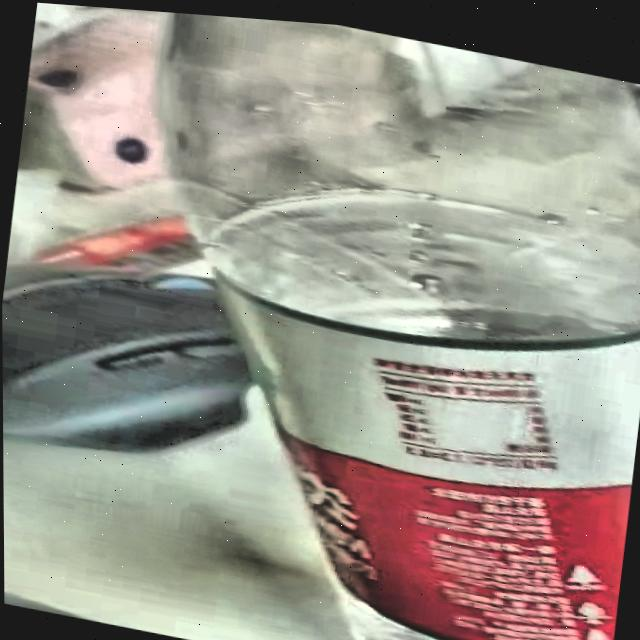plastic: (70, 4, 640, 640)
